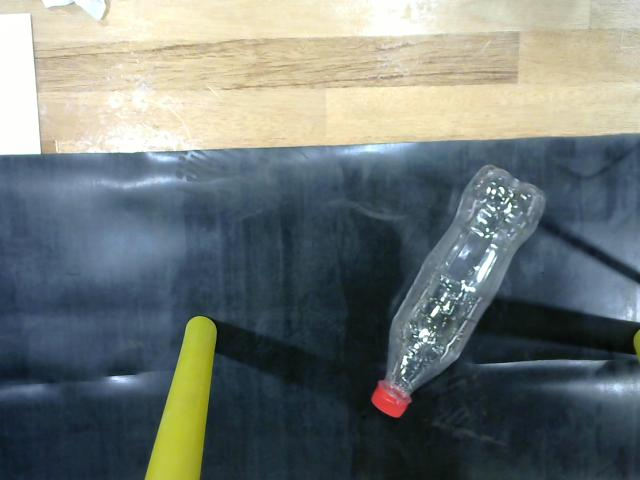bottle: (372, 149, 561, 429)
